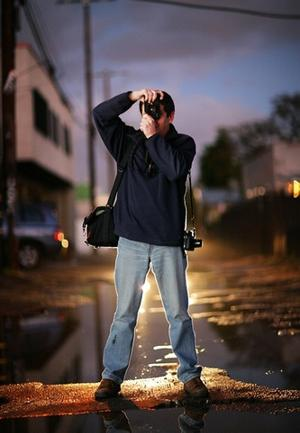person: (94, 88, 210, 405)
